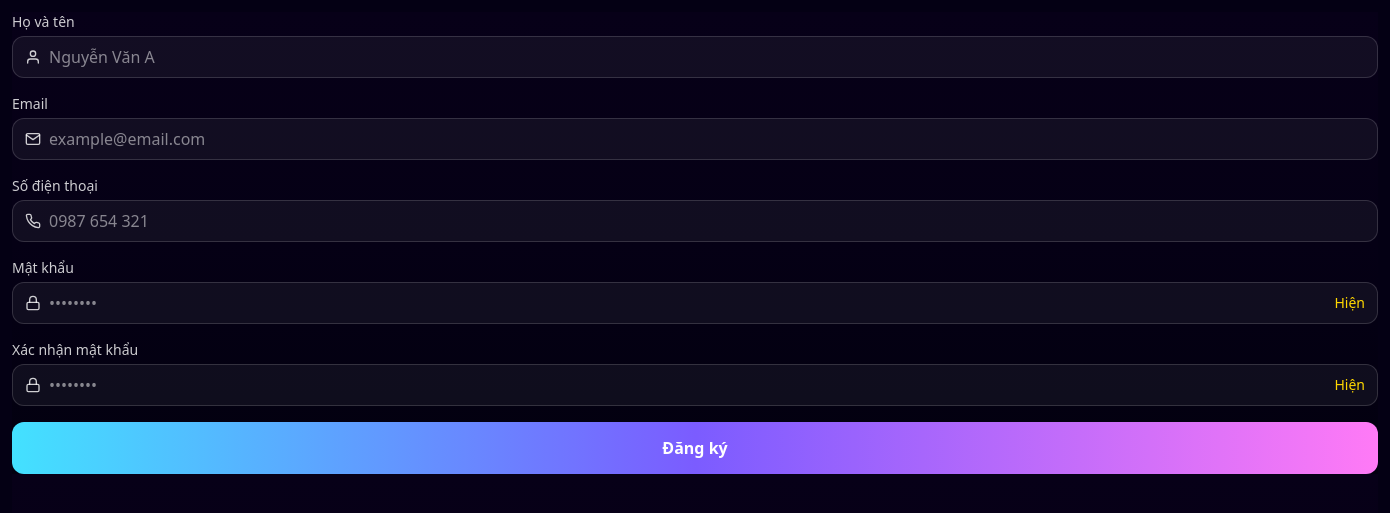
Test: RegisterFields › validates empty fullName
This screenshot has width=1390, height=513.
Clear the field labelled "Họ và tên". click: (707, 57)
box: [49,45,1365,69]
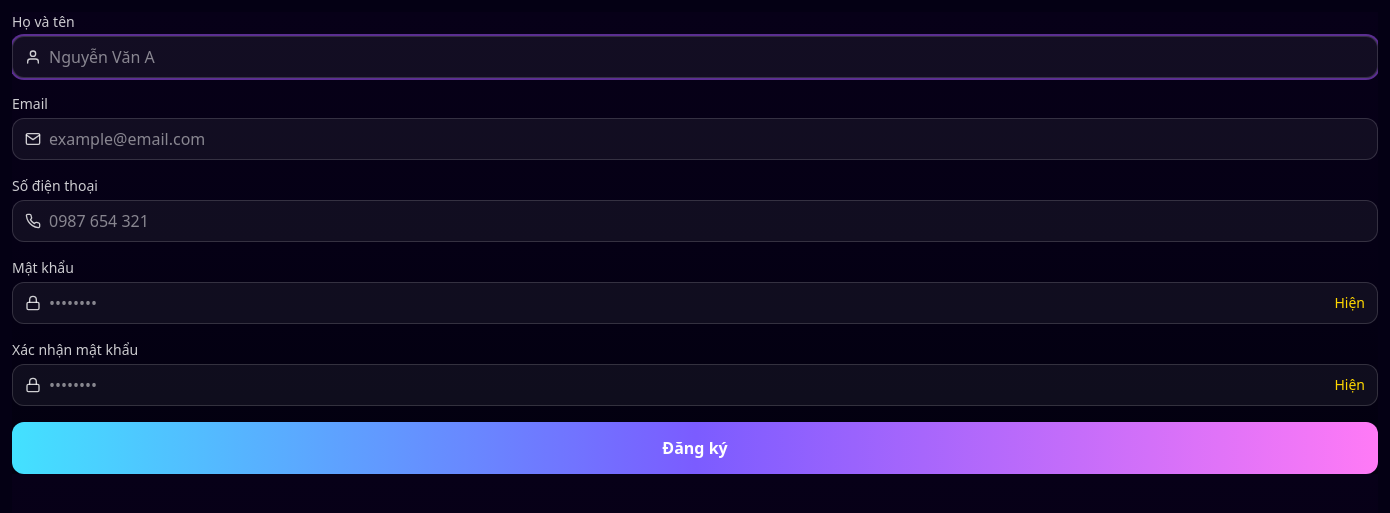
Type "a@cv.com" into the field labelled "Email". click: (707, 139)
box: [49,127,1365,151]
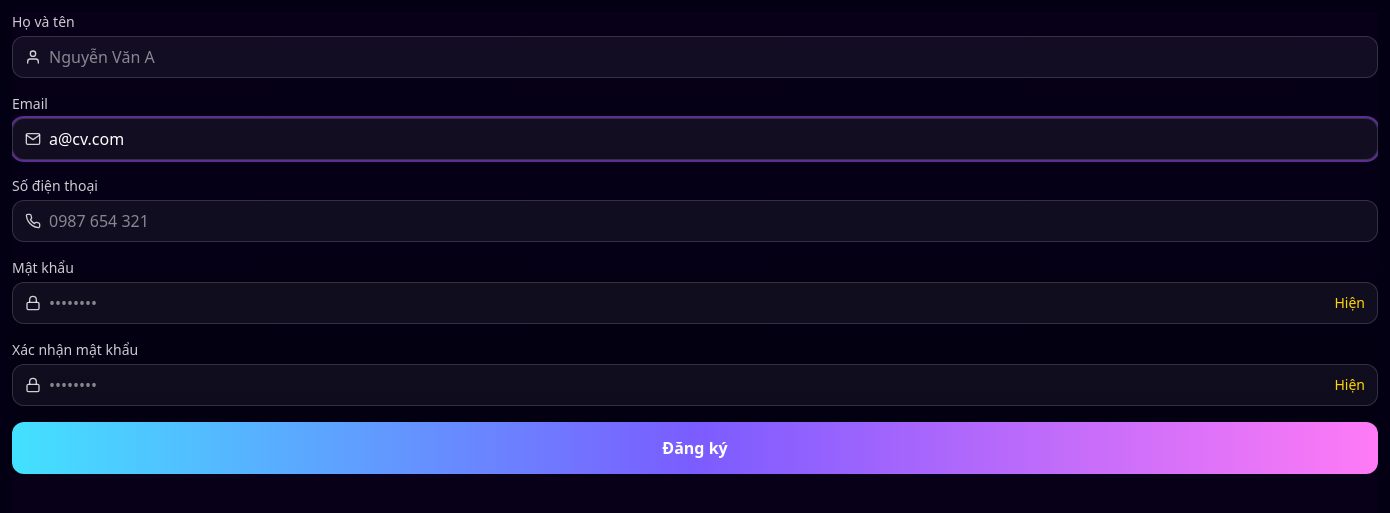
Clear the field labelled "Số điện thoại". click: (707, 221)
box: [49,209,1365,233]
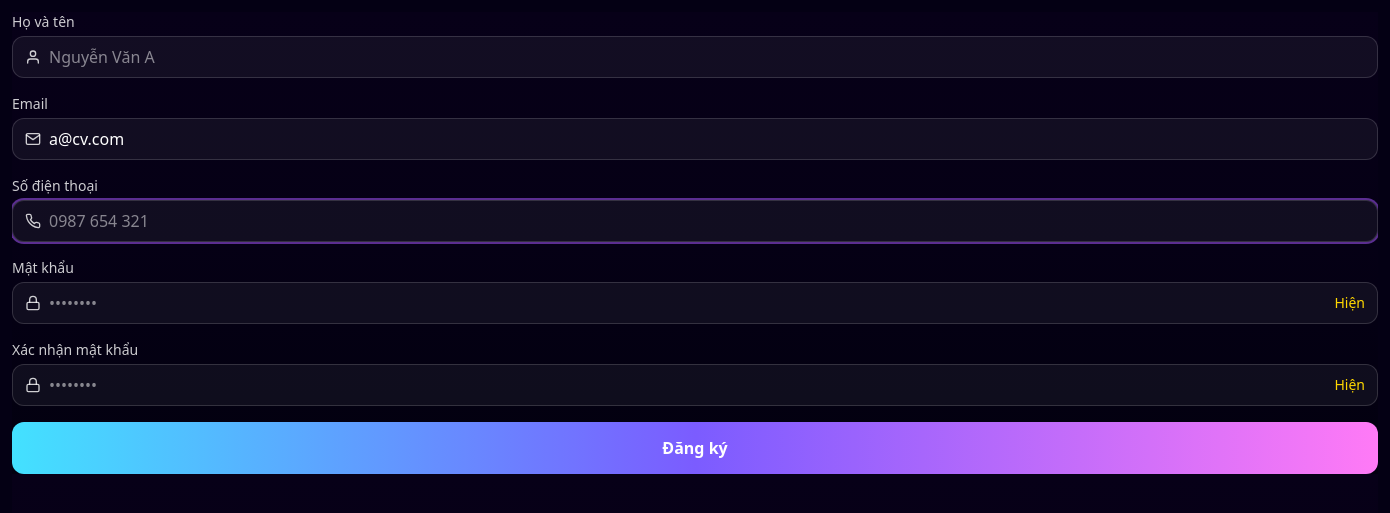
Type "123456" into the password field labelled "Mật khẩu". click: (688, 303)
box: [49,291,1326,315]
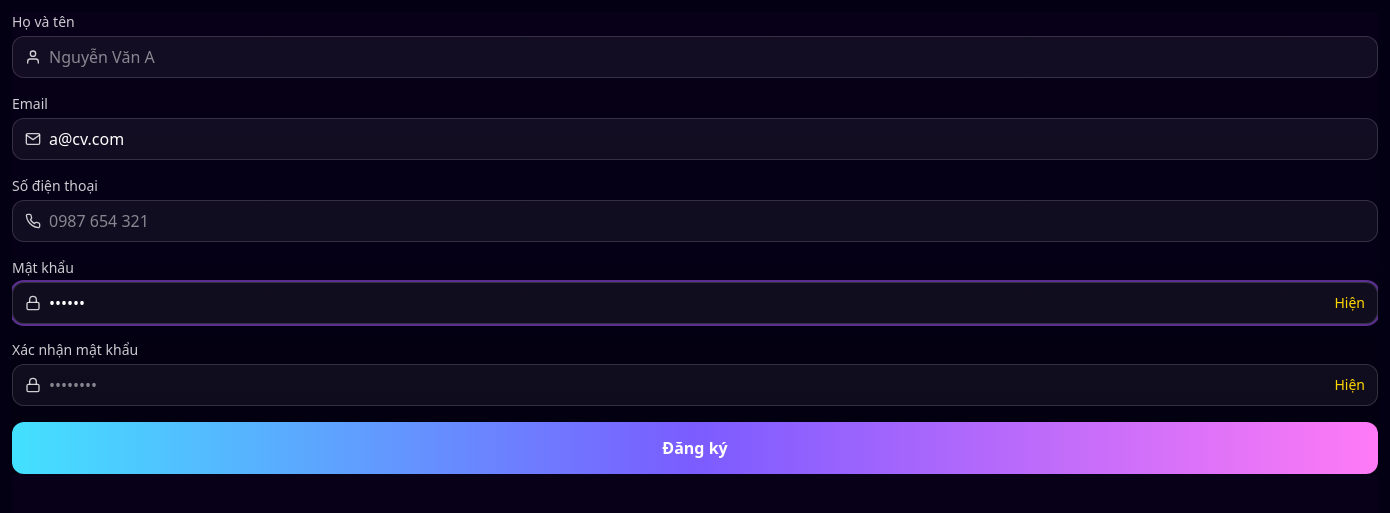
Type "123456" into the password field labelled "Xác nhận mật khẩu". click: (688, 385)
box: [49,373,1326,397]
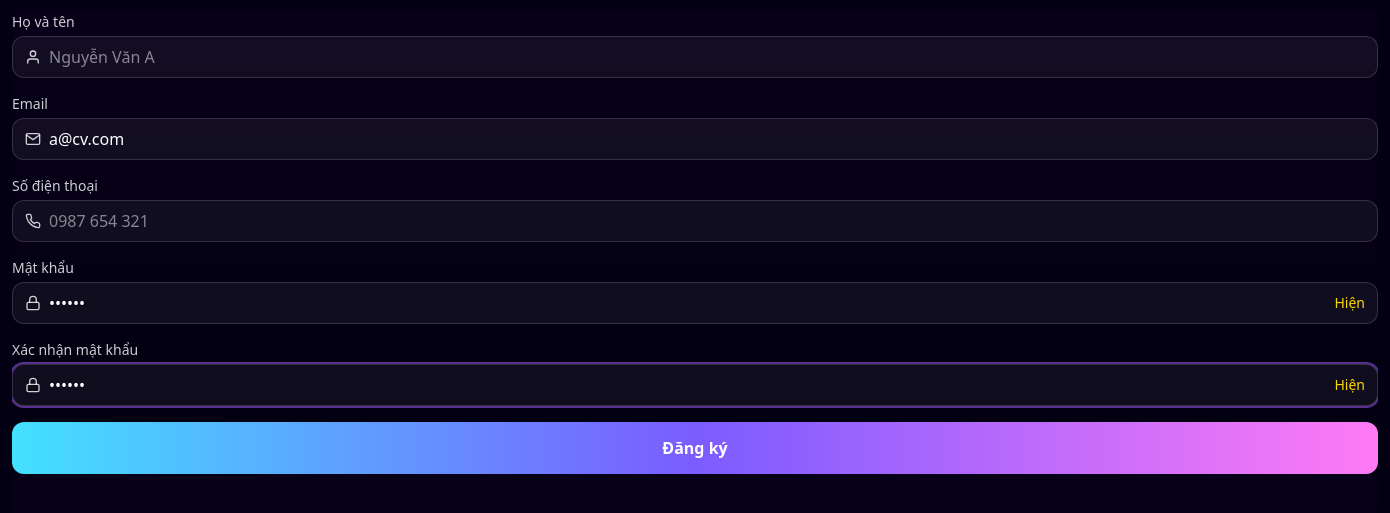
Click the button "Đăng ký". click: (695, 448)
box: [12,422,1378,474]
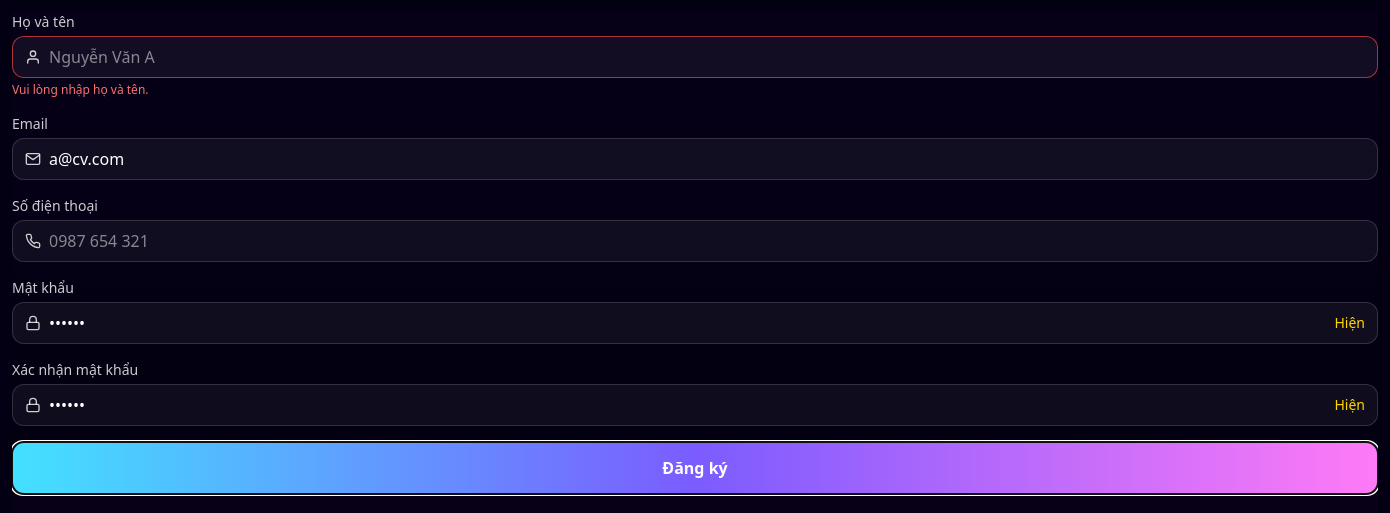
Expected: the text "Vui lòng nhập họ và tên." is shown, [12,81,148,98]
